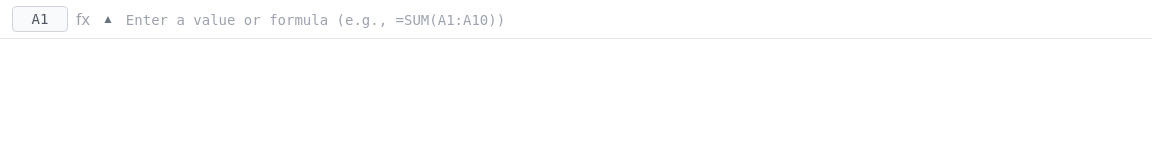
Scenario: FormulaBar - Expand/Collapse › toggles expanded state via button click
Click the button titled "Expand formula bar": (108, 19) [98,9,118,29]
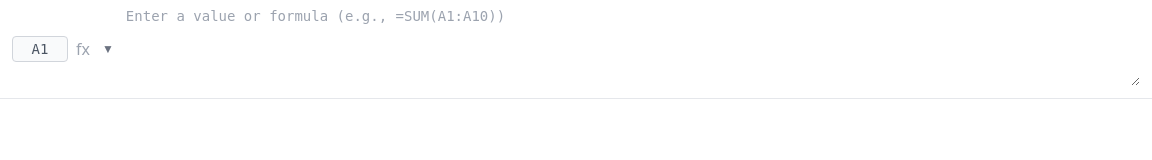
Expected: the text box with placeholder "Enter a value or formula (e.g., =SUM(A1:A10))" is shown, [126,6,1140,86]
